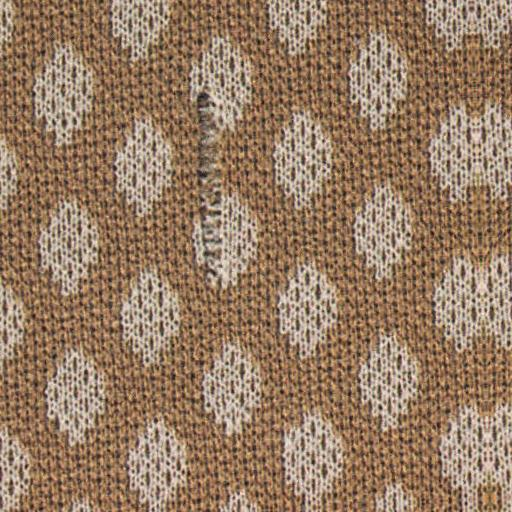slub: (191, 89, 234, 291)
